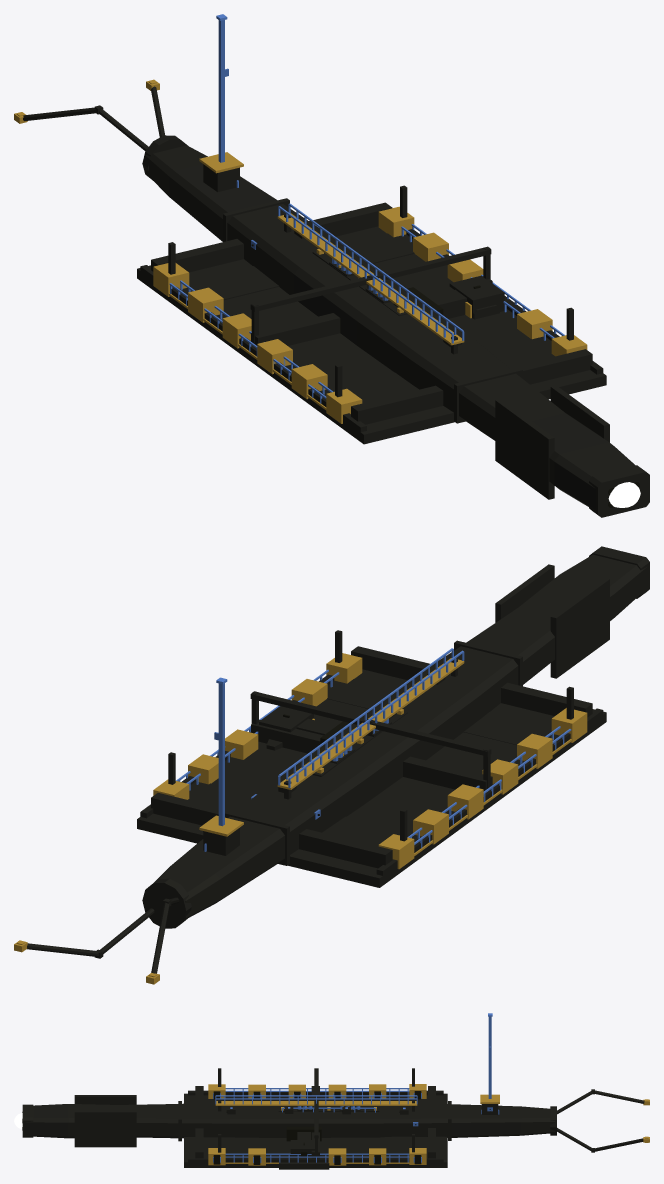
3 views of the same model, one above another, from view 1: azimuth 30°, elevation 25°; view 2: azimuth 150°, elevation 25°; view 3: azimuth 270°, elevation 25° (orthographic). The views are drawn at different scales.
Visible parts, largest first — view 1: RIMWARD_HULL; view 2: RIMWARD_HULL; view 3: RIMWARD_HULL.
Boxes of the visible parts, left/top/right/bottom form: RIMWARD_HULL: left=14, top=14, right=649, bottom=517; RIMWARD_HULL: left=14, top=546, right=649, bottom=984; RIMWARD_HULL: left=22, top=1013, right=649, bottom=1169.
Bounding box in the file's own units: 8.66 × 7.3 × 32.82.
